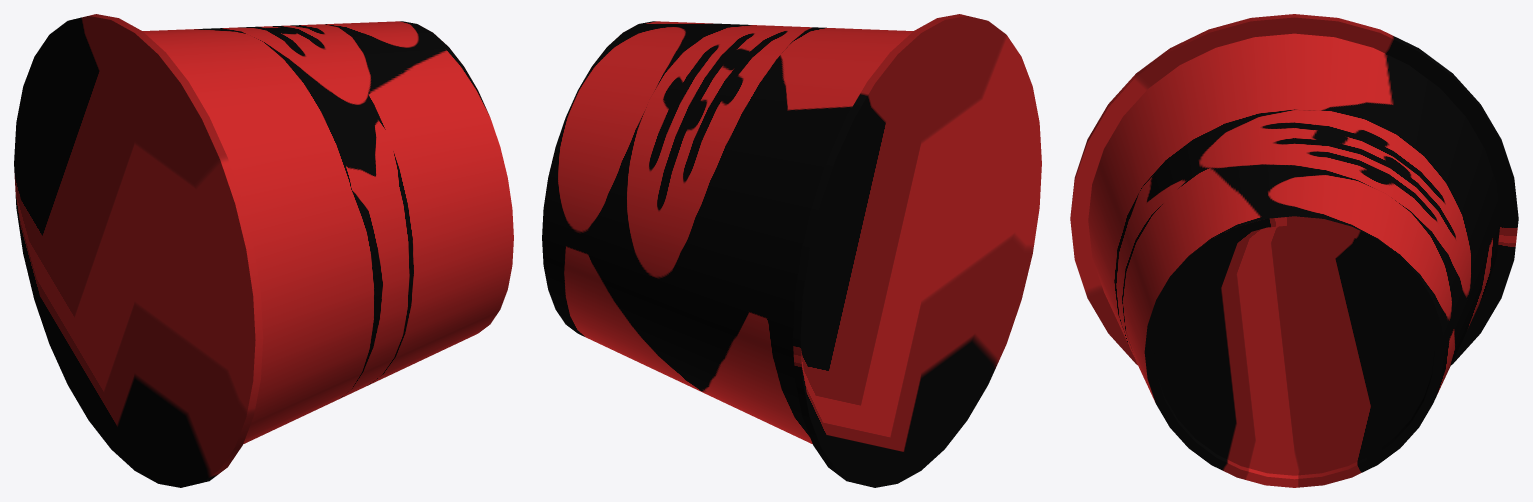
Rendered from CupRamen.fbx.
3 renders of one model, left to right at view 1: azimuth 30°, elevation 25°; view 2: azimuth 150°, elevation 25°; view 3: azimuth 270°, elevation 25°, orthographic. The views are drawn at different scales.
Visible parts, largest first — view 1: Cylinder001; view 2: Cylinder001; view 3: Cylinder001.
Part boxes in pixels (x1,y1,x2,y2): Cylinder001: [14, 14, 513, 487]; Cylinder001: [542, 14, 1041, 487]; Cylinder001: [1070, 14, 1518, 487].
Bounding box in the file's own units: 77.5 × 109 × 109.
